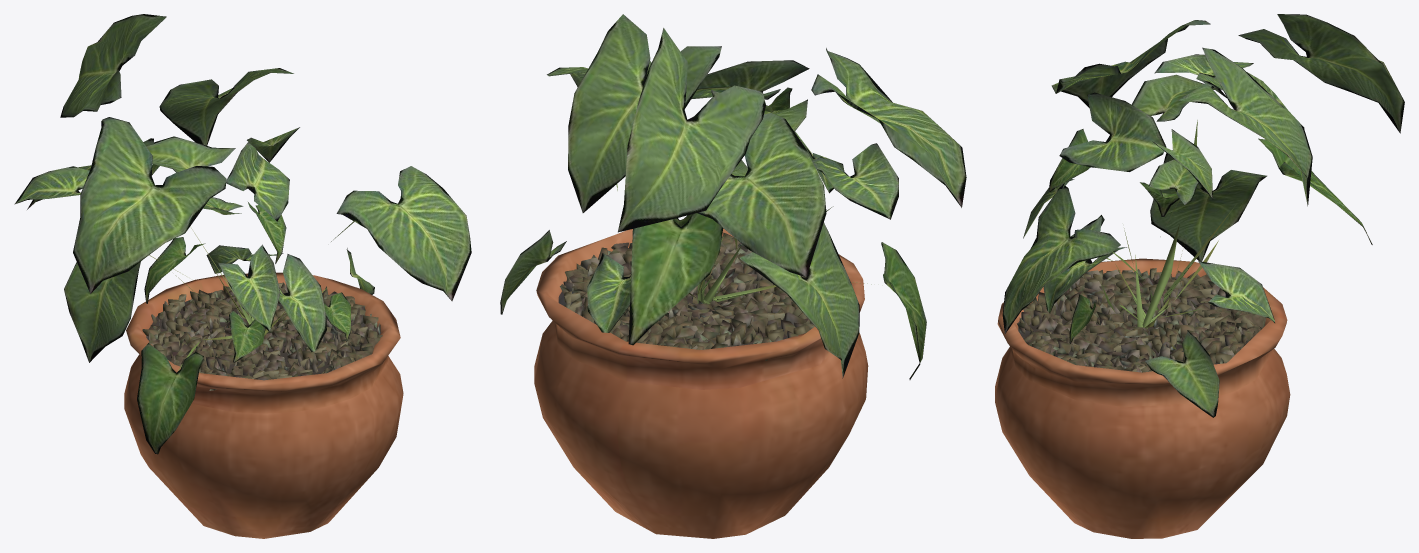
The model's file is plant-potted-02.lite.842f19df.glb.
The picture shows the model from 3 angles, left to right: view 1: azimuth 30°, elevation 25°; view 2: azimuth 150°, elevation 25°; view 3: azimuth 270°, elevation 25°; orthographic projection. The views are drawn at different scales.
Parts seen in each view (by area): view 1: model; view 2: model; view 3: model.
Part boxes in pixels (<box>): model: <box>14,14,471,538</box>; model: <box>500,14,966,538</box>; model: <box>995,14,1404,538</box>.
Size of the model in its own units: 0.7012 by 0.8395 by 0.6553.
2 materials, 2 textured.
